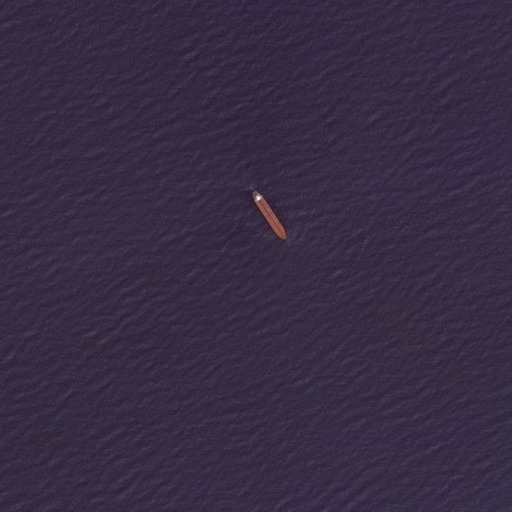ship: (248, 185, 290, 243)
